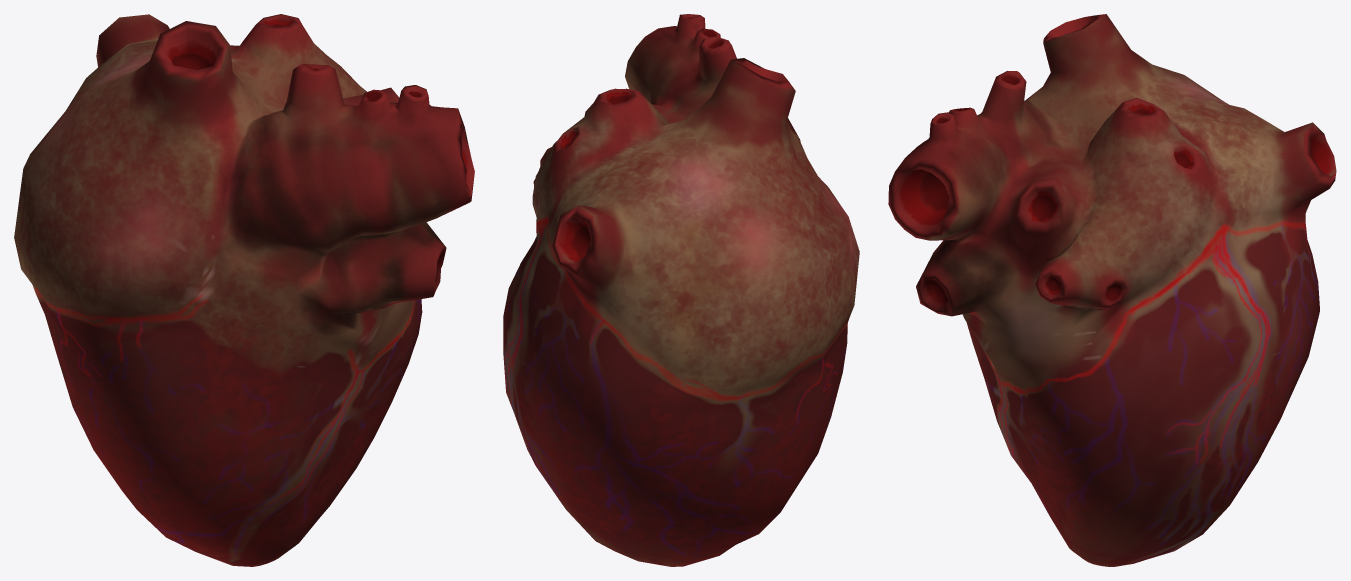
The picture shows the model from 3 angles, left to right: view 1: azimuth 30°, elevation 25°; view 2: azimuth 150°, elevation 25°; view 3: azimuth 270°, elevation 25°; orthographic projection. The views are drawn at different scales.
Parts seen in each view (by area): view 1: heart; view 2: heart; view 3: heart.
Boxes of the visible parts, x1,y1,x2,y2 form: heart: (14, 14, 474, 566); heart: (503, 14, 859, 566); heart: (888, 14, 1336, 566).
Size of the model in its own units: 12.97 by 18.91 by 14.91.
1 material, 1 textured.
